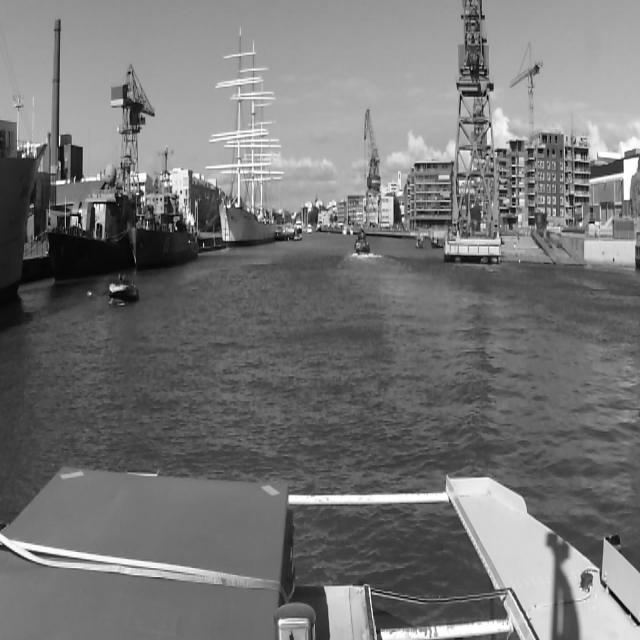ship: (206, 28, 283, 245), (0, 1, 48, 308), (51, 166, 137, 283), (131, 150, 199, 270), (107, 274, 139, 306), (354, 231, 370, 255), (272, 228, 292, 241)
